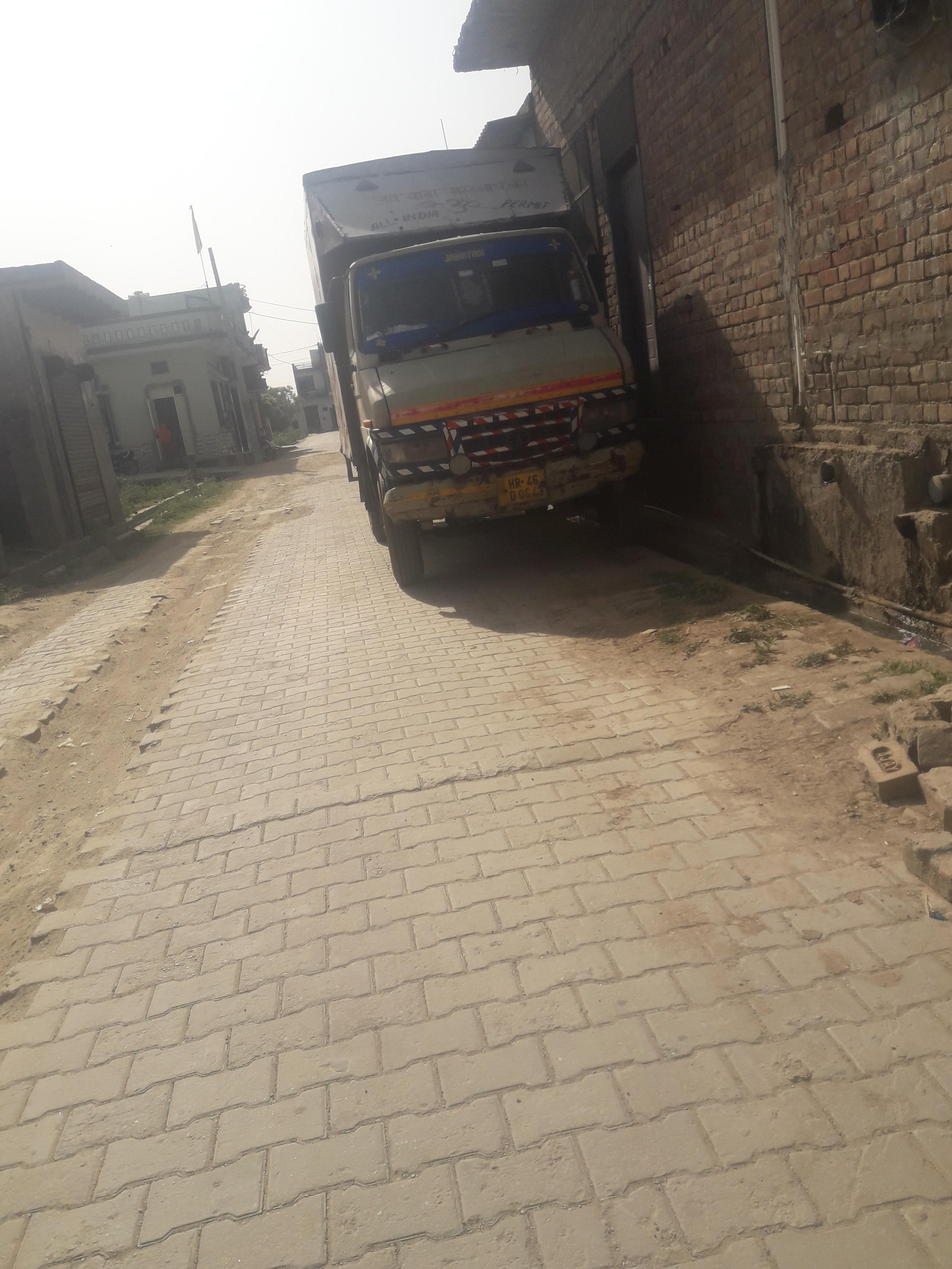Non-emergency: (26, 48, 900, 641)
